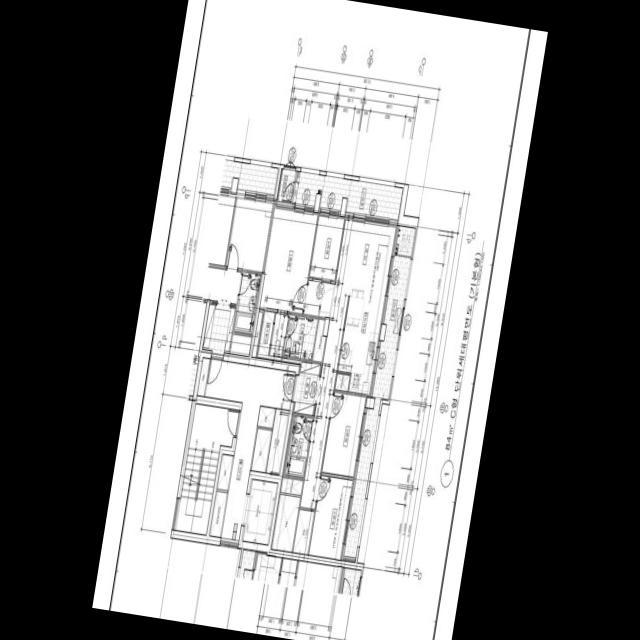background: (92, 0, 548, 640)
space_balconi: (344, 225, 416, 557), (292, 171, 403, 220)
space_bedroom: (259, 206, 318, 313), (322, 392, 367, 477), (309, 475, 353, 560), (310, 215, 345, 280)
space_dressroom: (269, 312, 288, 361), (257, 311, 275, 359)
space_elevator: (243, 479, 278, 544)
space_elevator_hall: (205, 359, 295, 540)
space_front: (293, 361, 321, 415)
space_kitchen: (338, 296, 385, 396)
space_living_room: (300, 217, 397, 509)
space_other: (271, 494, 300, 552), (266, 409, 289, 474), (293, 509, 314, 554), (251, 428, 272, 472), (210, 491, 228, 537), (217, 454, 234, 490), (278, 169, 296, 203), (313, 319, 326, 362), (197, 357, 210, 396), (252, 312, 263, 357), (280, 477, 303, 495), (258, 406, 275, 428), (335, 373, 350, 391)
space_staircase: (176, 403, 239, 535)
space_toilet: (285, 415, 313, 478), (283, 314, 318, 360)
